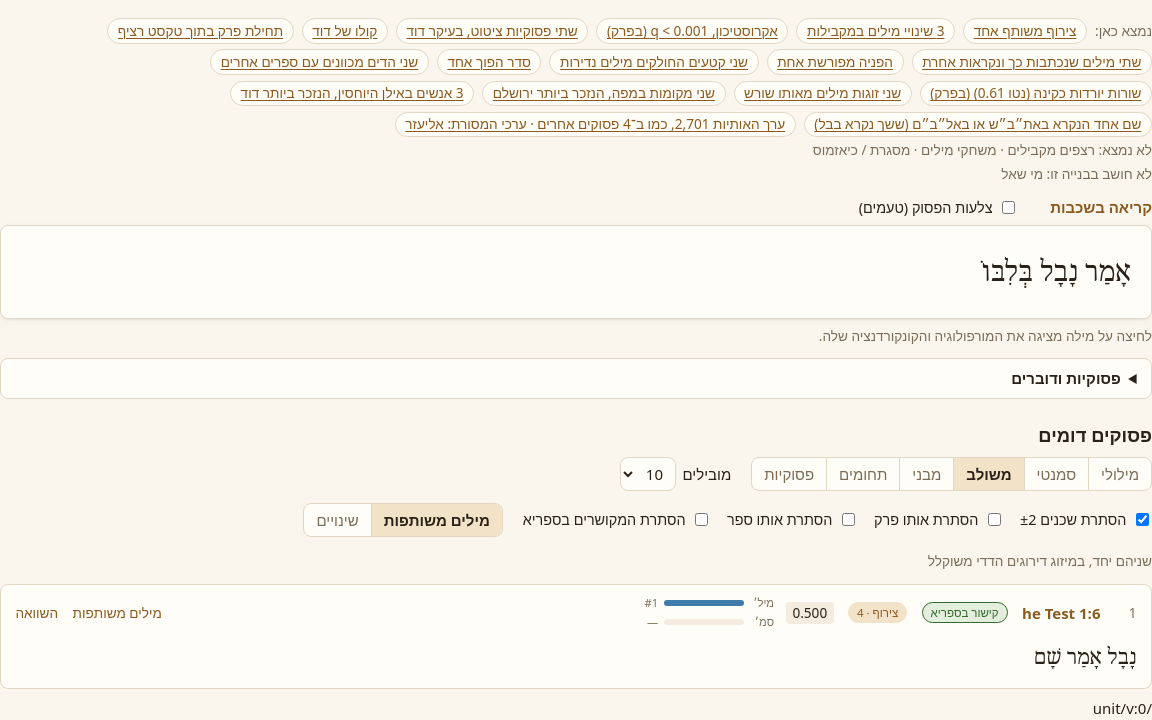
UnitPage › speaks Hebrew in the Hebrew interface
The image size is (1152, 720).
(page scrolled)
Expected: the heading "פסוקים דומים" is shown, x1=1038 y1=422 x2=1151 y2=447
Expected: the text "צירוף · 4" is shown, x1=848 y1=602 x2=907 y2=623
Hover over the list item "he Test 1:6".
mouse_move(576, 637)  # box x1=0 y1=584 x2=1151 y2=689
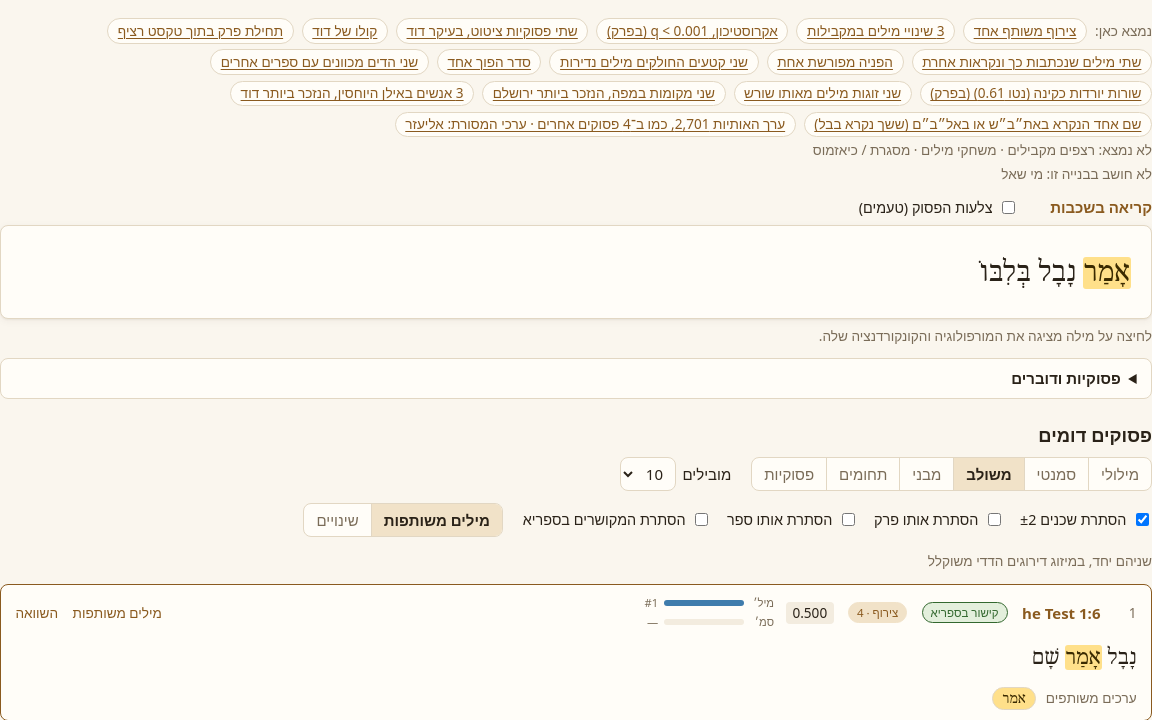
Result: the element labelled "ערכים משותפים" shows "אמר" at x1=992 y1=687 x2=1036 y2=710
